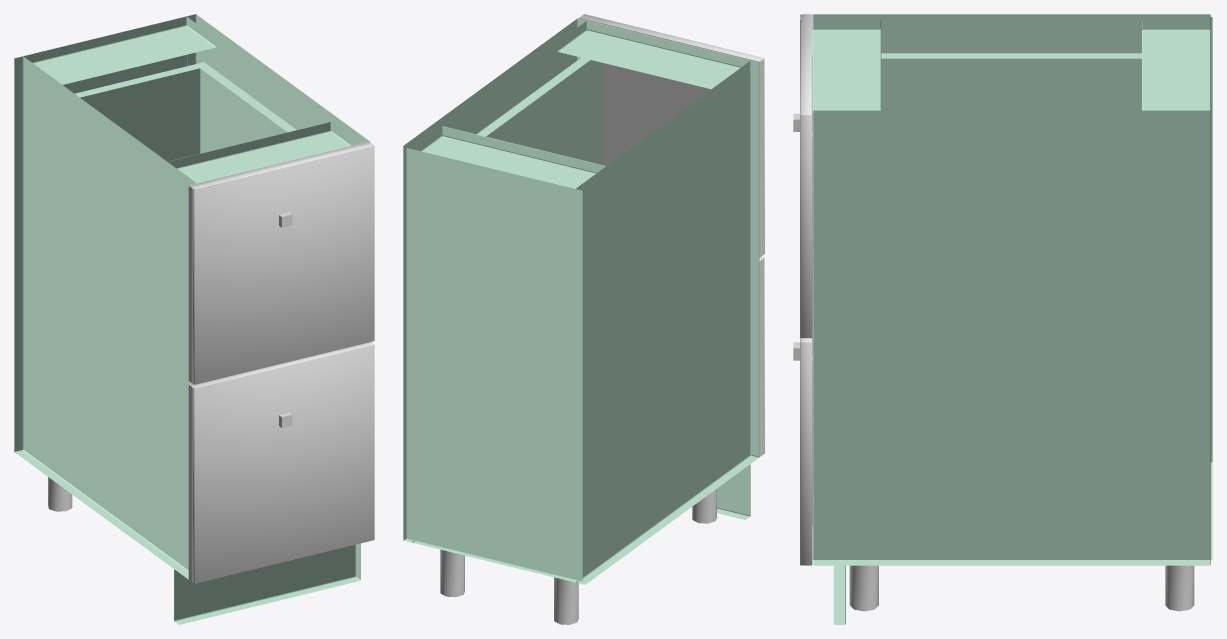
The model's file is M_2YNSD_1_F_2_NN.glb.
The picture shows the model from 3 angles, left to right: view 1: azimuth 30°, elevation 25°; view 2: azimuth 150°, elevation 25°; view 3: azimuth 270°, elevation 25°; orthographic projection. The views are drawn at different scales.
Parts seen in each view (by area): view 1: M_2YNSD_2, M_2YNSD_1_F, M_2YNSD_1_F.1, M_2YNSD_2_F_2, M_2YNSD_1_F_C, M_2YNSD_1_F_C.1, Legs; view 2: M_2YNSD_2, M_2YNSD_2_F_2, M_2YNSD_1_F_A, Legs, M_2YNSD_1_F, M_2YNSD_1_F_B, M_2YNSD_1_F_C, M_2YNSD_1_F_C.1; view 3: M_2YNSD_2, M_2YNSD_2_F_2, M_2YNSD_1_F, M_2YNSD_1_F.1, Legs.
Boxes of the visible parts, box(x1,y1,x2,y2) form: M_2YNSD_2: box(14, 14, 369, 624); M_2YNSD_1_F: box(190, 141, 374, 384); M_2YNSD_1_F.1: box(190, 342, 374, 583); M_2YNSD_2_F_2: box(75, 62, 296, 161); M_2YNSD_1_F_C: box(188, 186, 192, 383); M_2YNSD_1_F_C.1: box(188, 385, 192, 582); Legs: box(48, 477, 72, 511); M_2YNSD_2: box(403, 18, 759, 584); M_2YNSD_2_F_2: box(476, 57, 603, 165); M_2YNSD_1_F_A: box(579, 17, 762, 165); Legs: box(440, 489, 716, 624); M_2YNSD_1_F: box(579, 14, 764, 253); M_2YNSD_1_F_B: box(670, 40, 763, 257); M_2YNSD_1_F_C: box(760, 60, 763, 256); M_2YNSD_1_F_C.1: box(760, 259, 763, 456); M_2YNSD_2: box(812, 14, 1212, 624); M_2YNSD_2_F_2: box(812, 53, 1141, 525); M_2YNSD_1_F: box(800, 14, 812, 338); M_2YNSD_1_F.1: box(800, 338, 812, 565); Legs: box(849, 565, 1194, 611).
Size of the model in its own units: 3.5 by 8.21 by 6.12.
